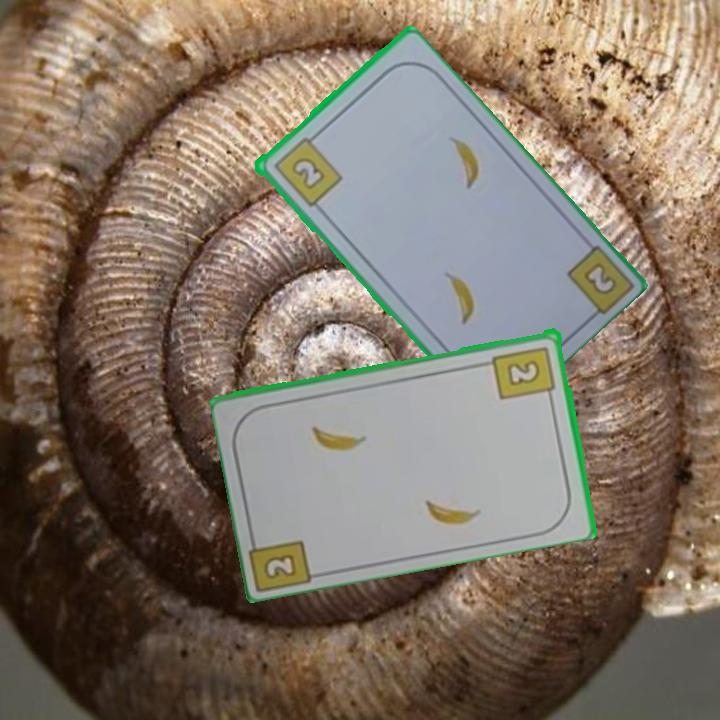2b: (269, 129, 345, 210), (490, 342, 558, 403), (579, 258, 623, 298), (260, 550, 300, 582)
